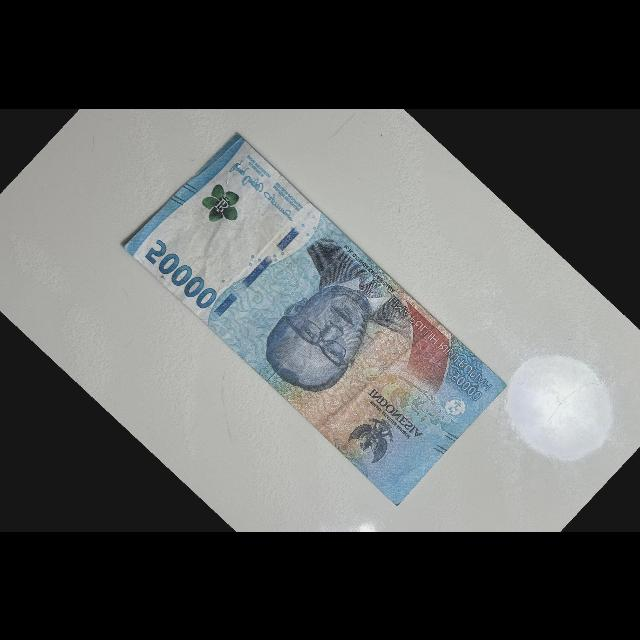Palsu-50k: (117, 125, 513, 510)
Tinta-Palsu-50k: (194, 177, 250, 233)
